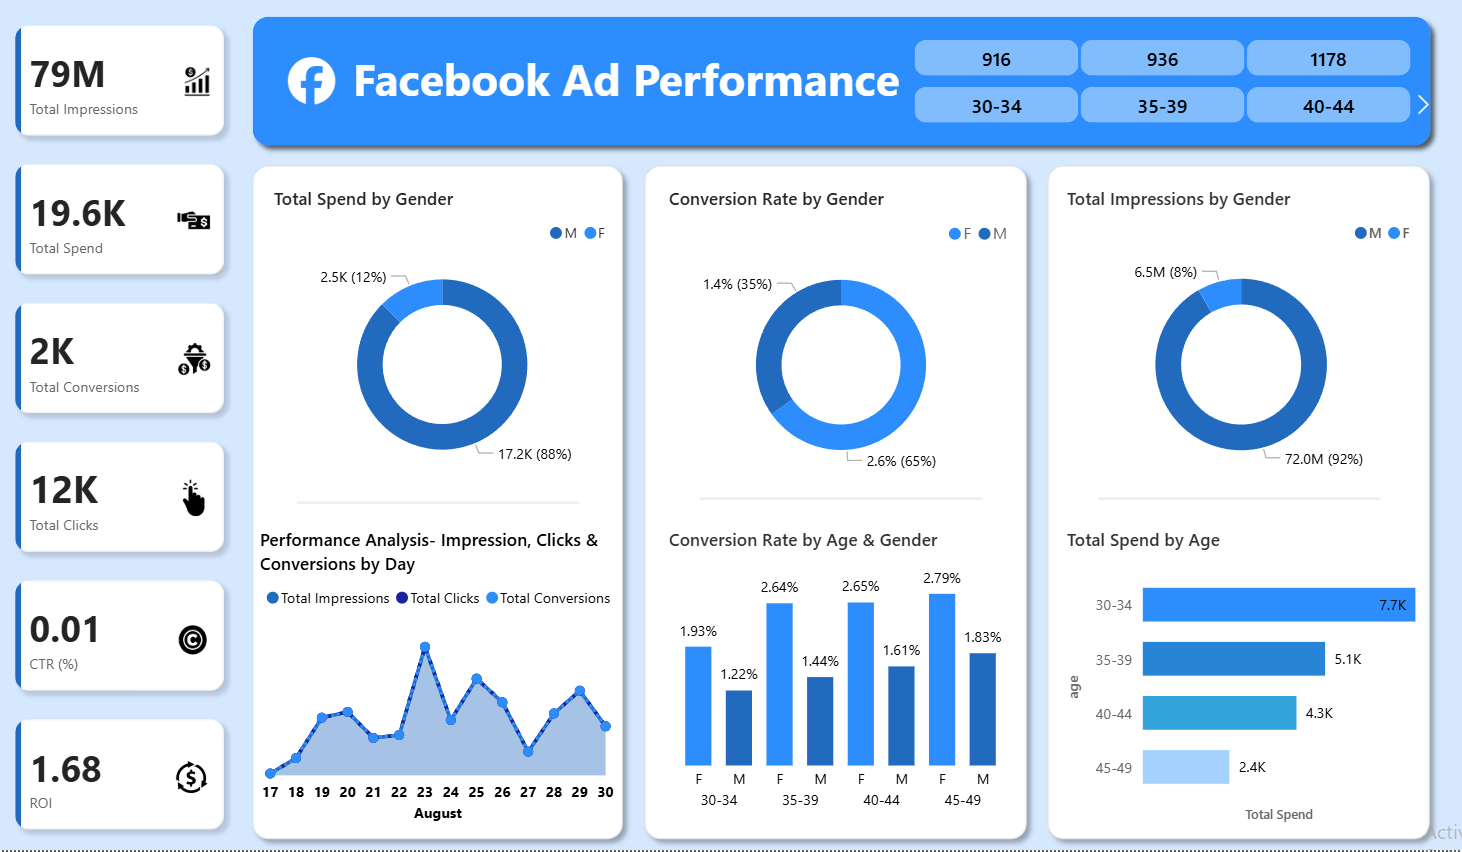

The page's visual inventory and layout, read from the dashboard file:
{"tool":"powerbi","page":{"name":"Page 1","canvas":[1280,720],"ordinal":0},"visuals":[{"type":"cardVisual","fields":{"Data":["_M.Total Impressions","_M.Total Spend","_M.Total Conversions","_M.Total Clicks","_M.CTR (%)","_M.CPC"]},"box":[0,8,210.4,712.7],"z":0},{"type":"image","box":[258.4,360,160.5,65.3],"z":1000},{"type":"shape","box":[538.6,134.2,340.1,585.8],"z":2000},{"type":"shape","box":[878.7,134.2,340.1,585.8],"z":3000},{"type":"shape","box":[208.6,134.2,330.1,585.8],"z":4000},{"type":"donutChart","title":"Total Impressions by Gender","fields":{"Category":["fb data.gender"],"Y":["_M.Total Impressions"]},"box":[898.6,160.5,303.8,253],"z":5000},{"type":"clusteredBarChart","title":"Total Spend by Age","fields":{"Category":["fb data.age"],"Y":["_M.Total Spend"]},"box":[898.6,448,303.8,253.9],"z":6000},{"type":"donutChart","title":"Conversion Rate by Gender","fields":{"Y":["_M.CTR (%)"],"Category":["fb data.gender"]},"box":[563.1,160.5,300.2,253],"z":7000},{"type":"columnChart","title":"Conversion Rate by Age & Gender","fields":{"Category":["fb data.age","fb data.gender"],"Y":["_M.CTR (%)"]},"box":[563.1,448,300.2,252.1],"z":8000},{"type":"donutChart","title":"Total Spend by Gender","fields":{"Category":["fb data.gender"],"Y":["_M.Total Spend"]},"box":[230.3,160.5,293.8,253],"z":9000},{"type":"stackedAreaChart","title":"Performance Analysis- Impression, Clicks & Conversions by Day","fields":{"Category":["fb data.reporting_start.Variation.Date Hierarchy.Month","fb data.reporting_start.Variation.Date Hierarchy.Day"],"Y":["_M.Total Impressions","_M.Total Clicks","_M.Total Conversions"]},"box":[218.5,448,310.1,263],"z":10000},{"type":"shape","box":[208.2,8.2,1010.9,126.4],"z":11000},{"type":"advancedSlicerVisual","title":"Campaign Id","fields":{"Values":["fb data.campaign_id"]},"box":[750,31.8,469.1,40],"z":12000},{"type":"advancedSlicerVisual","title":"Campaign Id","fields":{"Values":["fb data.age"]},"box":[750,71.8,469.1,40],"z":13000},{"type":"textbox","box":[296.4,40,502.7,63.6],"z":14000},{"type":"image","box":[237.3,51.8,59.1,40],"z":15000},{"type":"shape","box":[254.5,396.4,238.2,61.8],"z":16000},{"type":"shape","box":[594.5,392.7,238.2,61.8],"z":17000},{"type":"shape","box":[930,392.7,238.2,61.8],"z":18000},{"type":"image","box":[135.5,530,61.8,24.5],"z":19000},{"type":"image","box":[142.7,644.5,47.3,27.3],"z":20000}]}

Visuals, with their boxes on the page's 1280x720 design canvas (x1, y1, x2, y2). These are canvas units, not pixel positions in the 1462x852 screenshot, which may show the page scaled, cropped or inside an application window:
cardVisual - _M.Total Impressions x _M.Total Spend: [0, 8, 210, 721]
image: [258, 360, 419, 425]
shape: [539, 134, 879, 720]
shape: [879, 134, 1219, 720]
shape: [209, 134, 539, 720]
"Total Impressions by Gender" donutChart: [899, 160, 1202, 414]
"Total Spend by Age" clusteredBarChart: [899, 448, 1202, 702]
"Conversion Rate by Gender" donutChart: [563, 160, 863, 414]
"Conversion Rate by Age & Gender" columnChart: [563, 448, 863, 700]
"Total Spend by Gender" donutChart: [230, 160, 524, 414]
"Performance Analysis- Impression, Clicks & Conversions by Day" stackedAreaChart: [218, 448, 529, 711]
shape: [208, 8, 1219, 135]
"Campaign Id" advancedSlicerVisual: [750, 32, 1219, 72]
"Campaign Id" advancedSlicerVisual: [750, 72, 1219, 112]
textbox: [296, 40, 799, 104]
image: [237, 52, 296, 92]
shape: [254, 396, 493, 458]
shape: [594, 393, 833, 454]
shape: [930, 393, 1168, 454]
image: [136, 530, 197, 554]
image: [143, 644, 190, 672]
